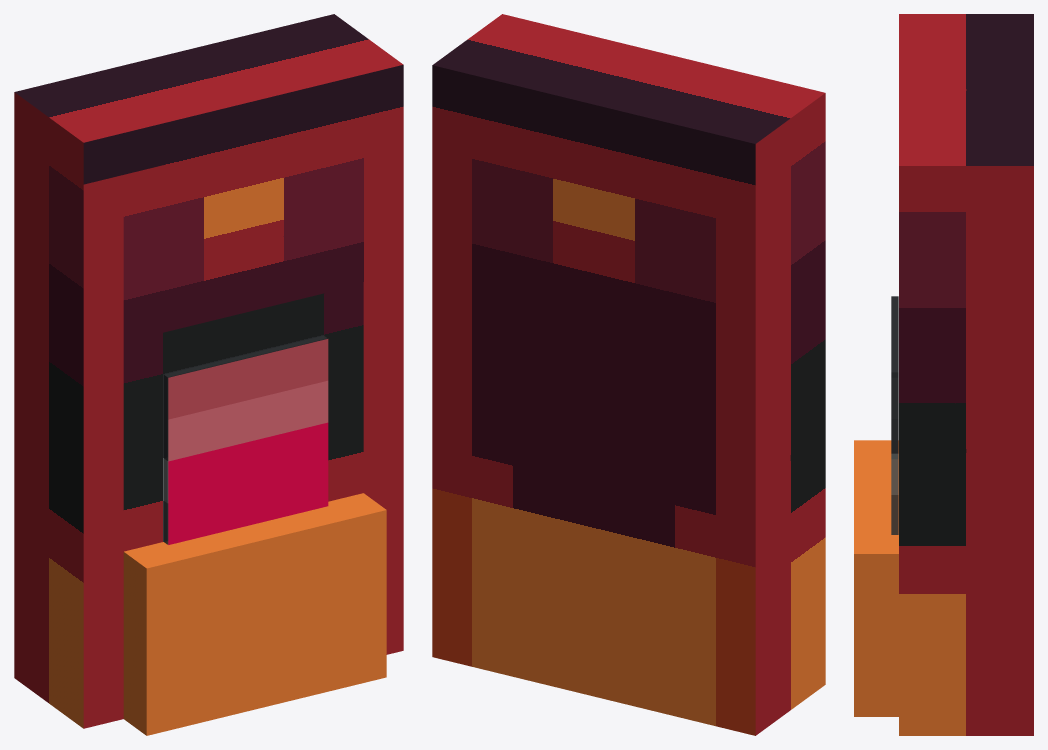
The model's file is fire_alarm_alerting.glb.
The picture shows the model from 3 angles, left to right: view 1: azimuth 30°, elevation 25°; view 2: azimuth 150°, elevation 25°; view 3: azimuth 270°, elevation 25°; orthographic projection. The views are drawn at different scales.
Visible parts, largest first — view 1: Continuous_Housing, Pull_Handle, Status_Overlay, Service_Cover, Indicator_Glass; view 2: Continuous_Housing; view 3: Continuous_Housing, Pull_Handle, Indicator_Glass.
Boxes of the visible parts, box(x1,y1,x2,y2) form: Continuous_Housing: box(14, 14, 403, 728); Pull_Handle: box(123, 493, 386, 735); Status_Overlay: box(168, 339, 328, 544); Service_Cover: box(123, 284, 363, 551); Indicator_Glass: box(164, 335, 327, 544); Continuous_Housing: box(432, 14, 825, 735); Continuous_Housing: box(899, 14, 1033, 735); Pull_Handle: box(854, 440, 898, 716); Indicator_Glass: box(891, 296, 898, 534).
Bounding box in the file's own units: 0.225 × 0.3938 × 0.1125.
Materials: 3 (3 with a texture image).
